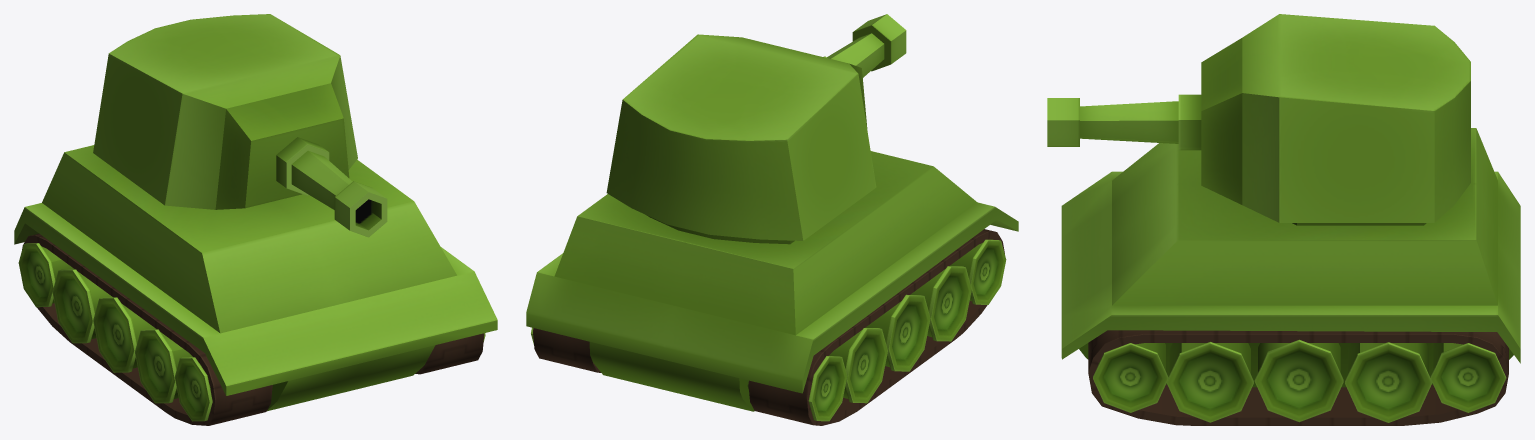
File: tank.FBX
3 views of the same model, side by side, from view 1: azimuth 30°, elevation 25°; view 2: azimuth 150°, elevation 25°; view 3: azimuth 270°, elevation 25° (orthographic). The views are drawn at different scales.
Visible parts, largest first — view 1: tank; view 2: tank; view 3: tank.
Boxes of the visible parts, bbox=[...] form: tank: bbox=[14, 14, 497, 425]; tank: bbox=[526, 14, 1018, 425]; tank: bbox=[1047, 14, 1520, 425].
Bounding box in the file's own units: 35.1 × 33.52 × 48.04.
